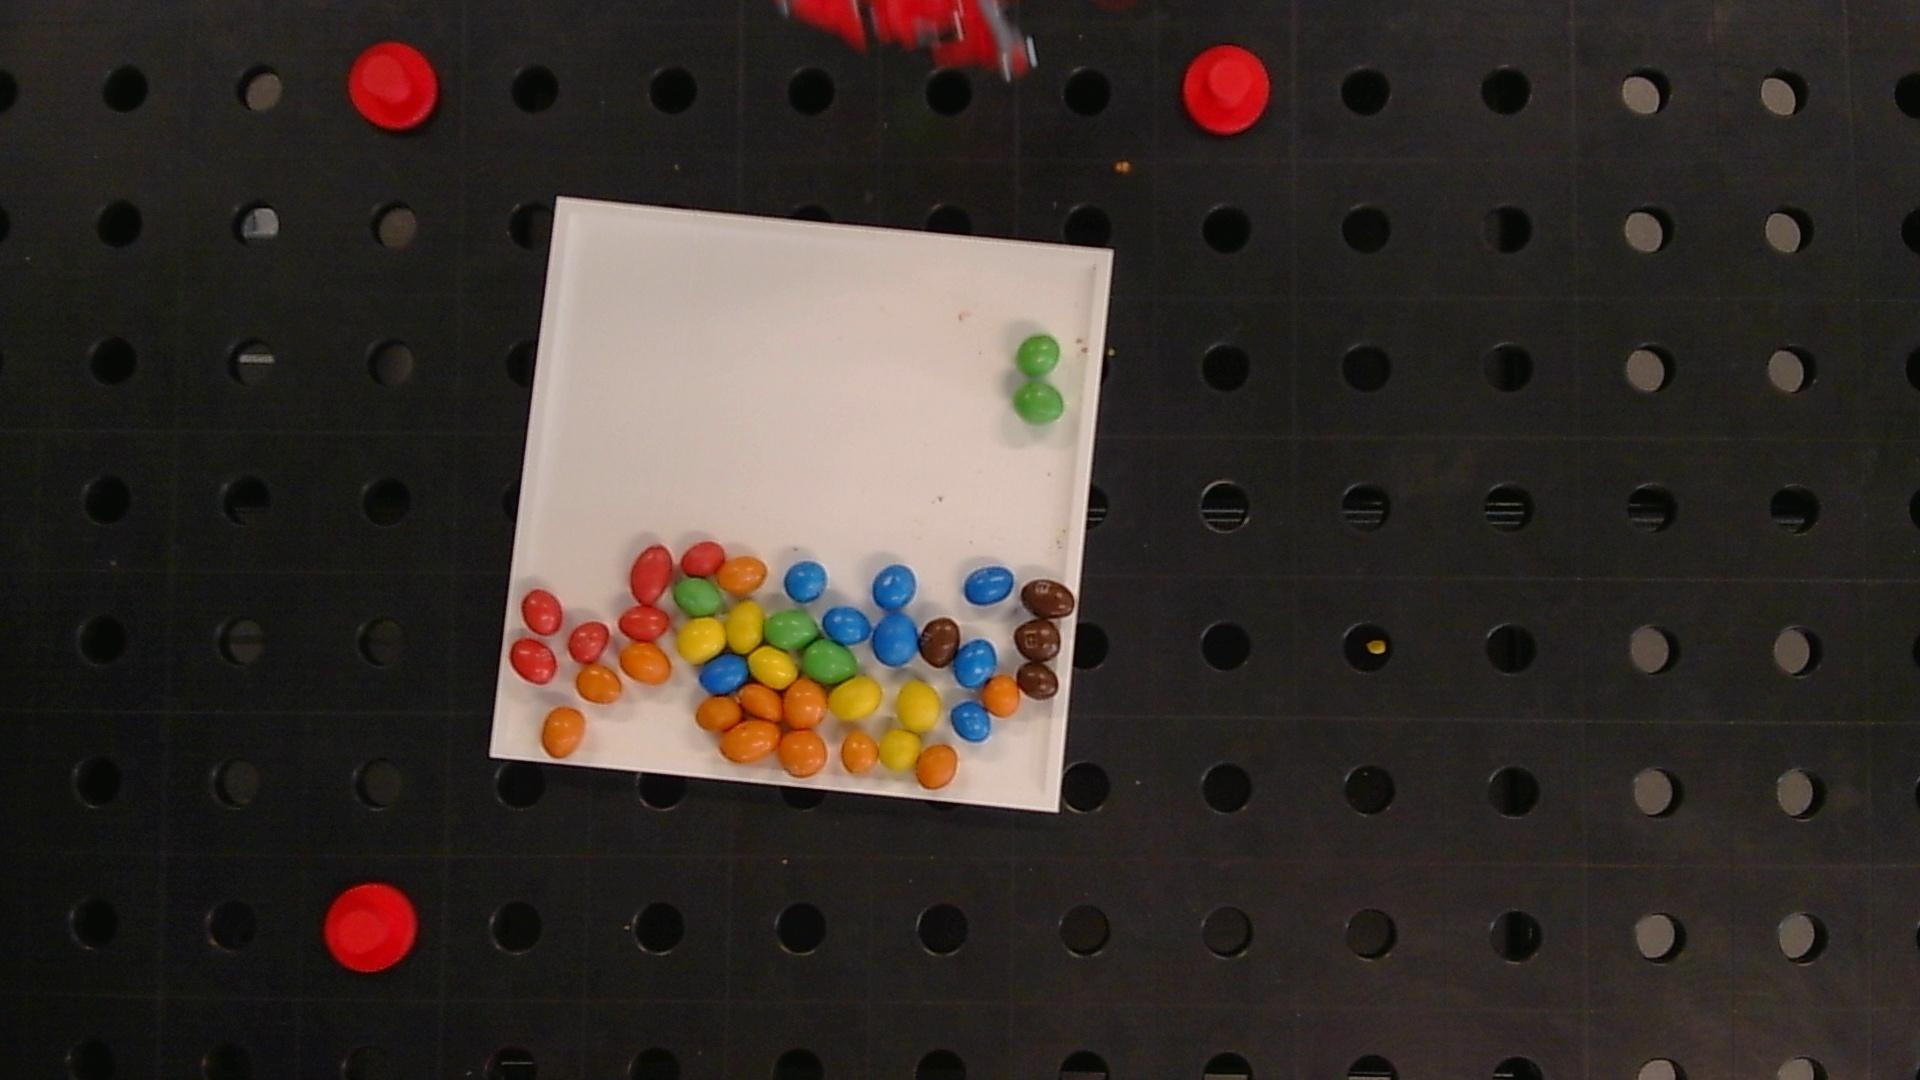blue: (872, 615, 919, 666), (953, 640, 997, 688), (873, 564, 916, 611), (700, 654, 749, 695), (964, 566, 1014, 605), (823, 607, 872, 644), (785, 560, 827, 601), (951, 702, 992, 741)
brown: (1021, 579, 1076, 618), (918, 617, 961, 666), (1014, 621, 1062, 661), (1017, 662, 1059, 699)
green: (802, 638, 857, 683), (1013, 382, 1065, 425), (764, 611, 819, 650), (1017, 335, 1062, 377), (674, 576, 723, 615)
orange: (720, 720, 781, 762), (778, 731, 827, 775), (542, 707, 585, 757), (618, 644, 671, 684), (914, 745, 960, 789), (783, 680, 825, 727), (717, 555, 767, 593), (576, 665, 621, 703), (840, 733, 880, 774), (696, 696, 740, 732), (982, 676, 1021, 716), (740, 684, 782, 720)
red: (629, 545, 673, 604), (509, 640, 558, 684), (521, 589, 563, 634), (618, 607, 670, 641), (567, 621, 609, 662), (679, 539, 724, 575)
yellow: (676, 617, 725, 663), (895, 682, 940, 732), (831, 678, 882, 721), (750, 647, 799, 686), (727, 601, 764, 651), (878, 729, 920, 770)
